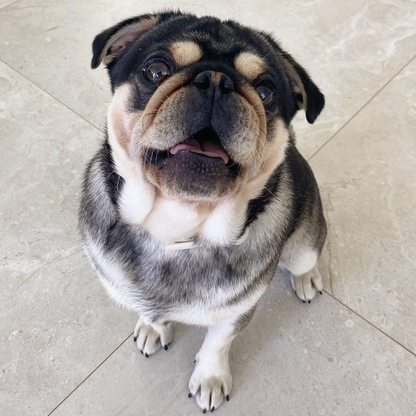Pug: (73, 4, 334, 416)
